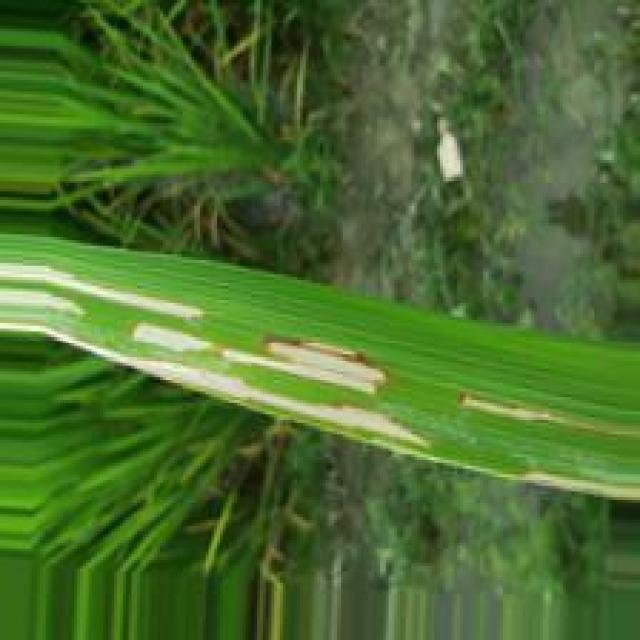Rice_Hispa: (138, 359, 426, 449), (128, 323, 396, 395), (2, 260, 213, 325), (496, 469, 640, 506)
